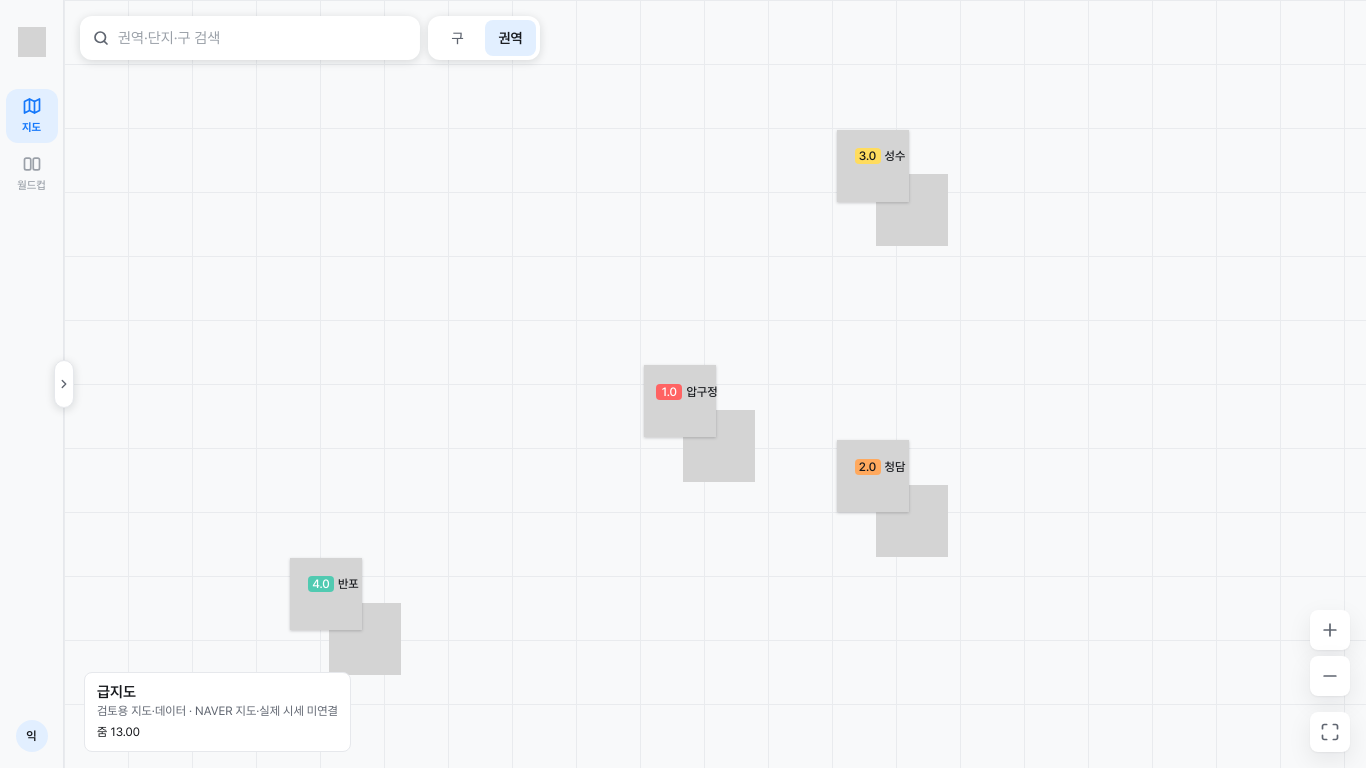
Scenario: search interaction in exploration › fits a district and searches an apartment outside the current viewport then selects detail/list/pin at zoom >=15
The width and height of the screenshot is (1366, 768).
Type "성동구" into the dropdown at point(263, 38), box [118, 16, 408, 60]
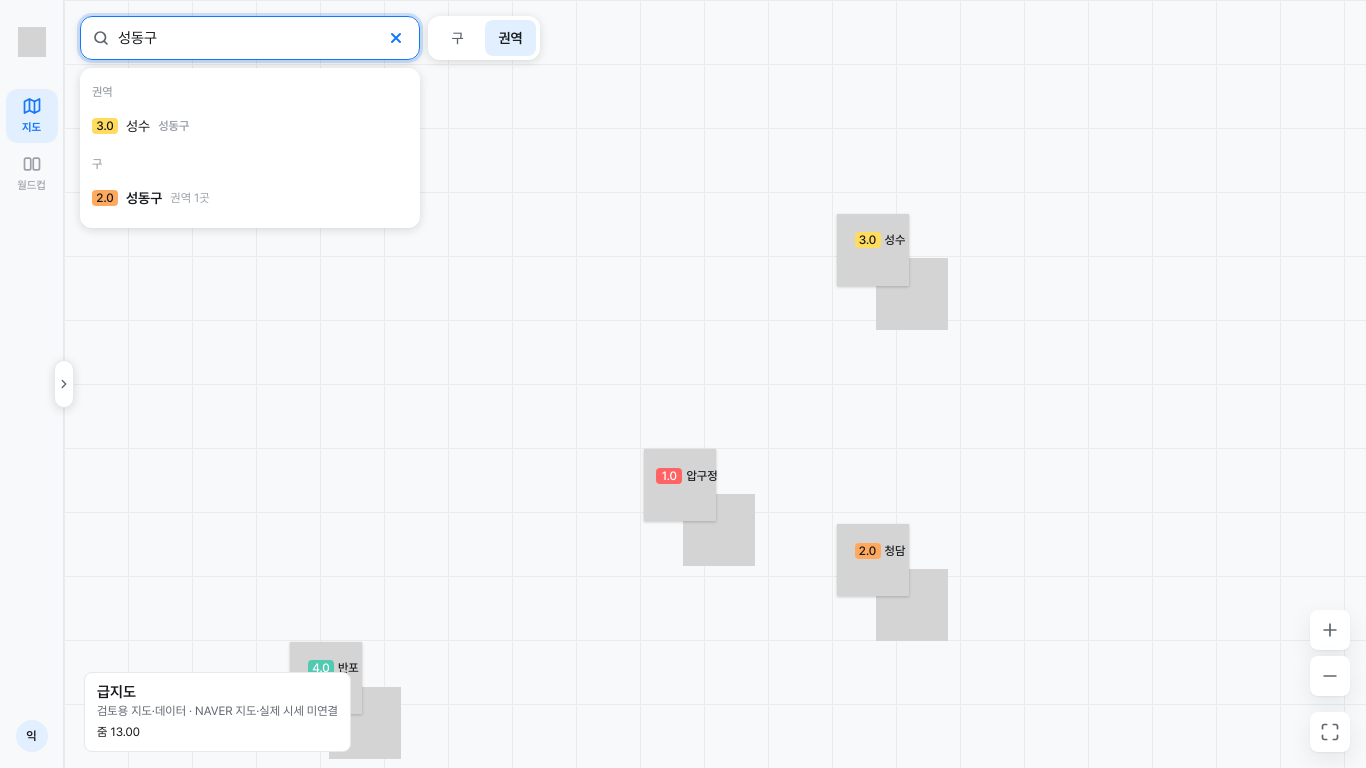
Check: the list is shown, box [92, 85, 210, 206]
Click the option "2.0 성동구 권역 1곳" at point(151, 198), box [92, 190, 210, 206]
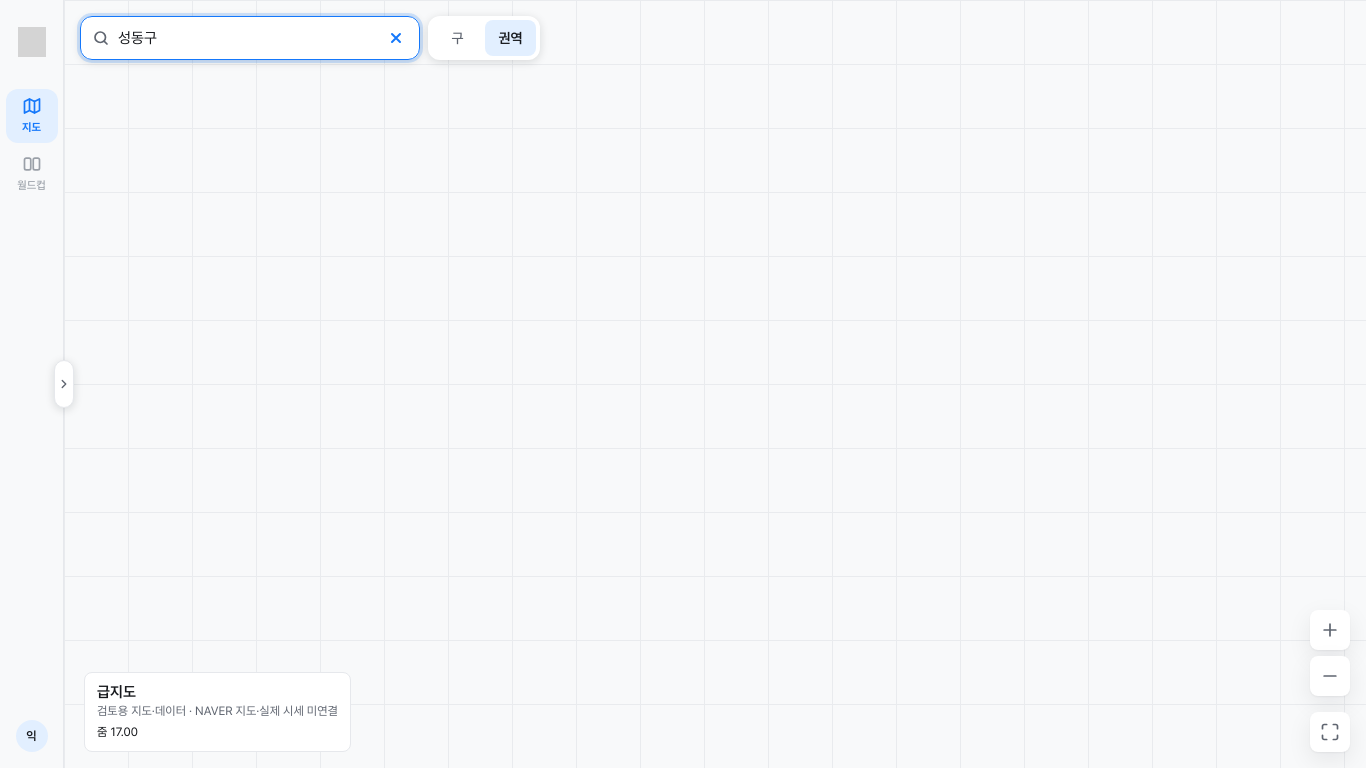
Clear the dropdown at point(247, 38), box [118, 16, 376, 60]
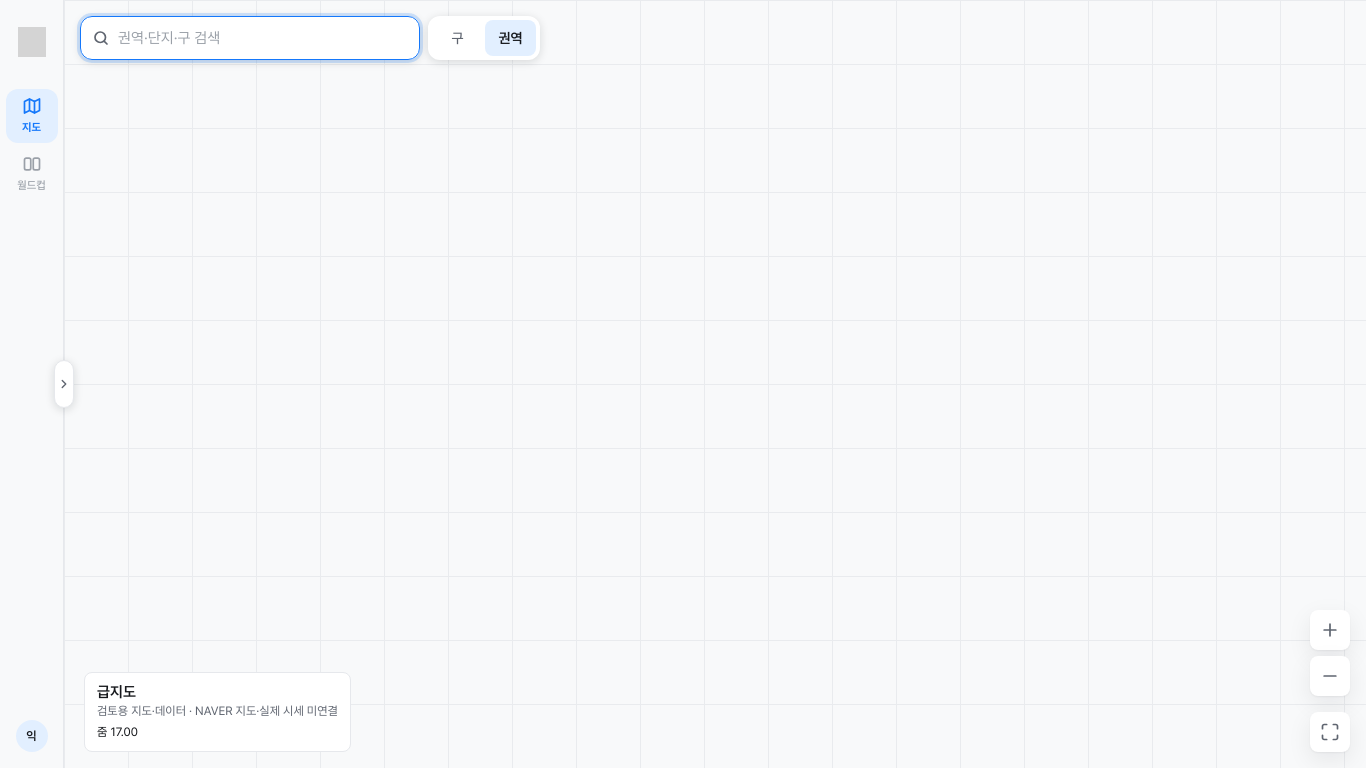
Type "청담 검토" into the dropdown at point(263, 38), box [118, 16, 408, 60]
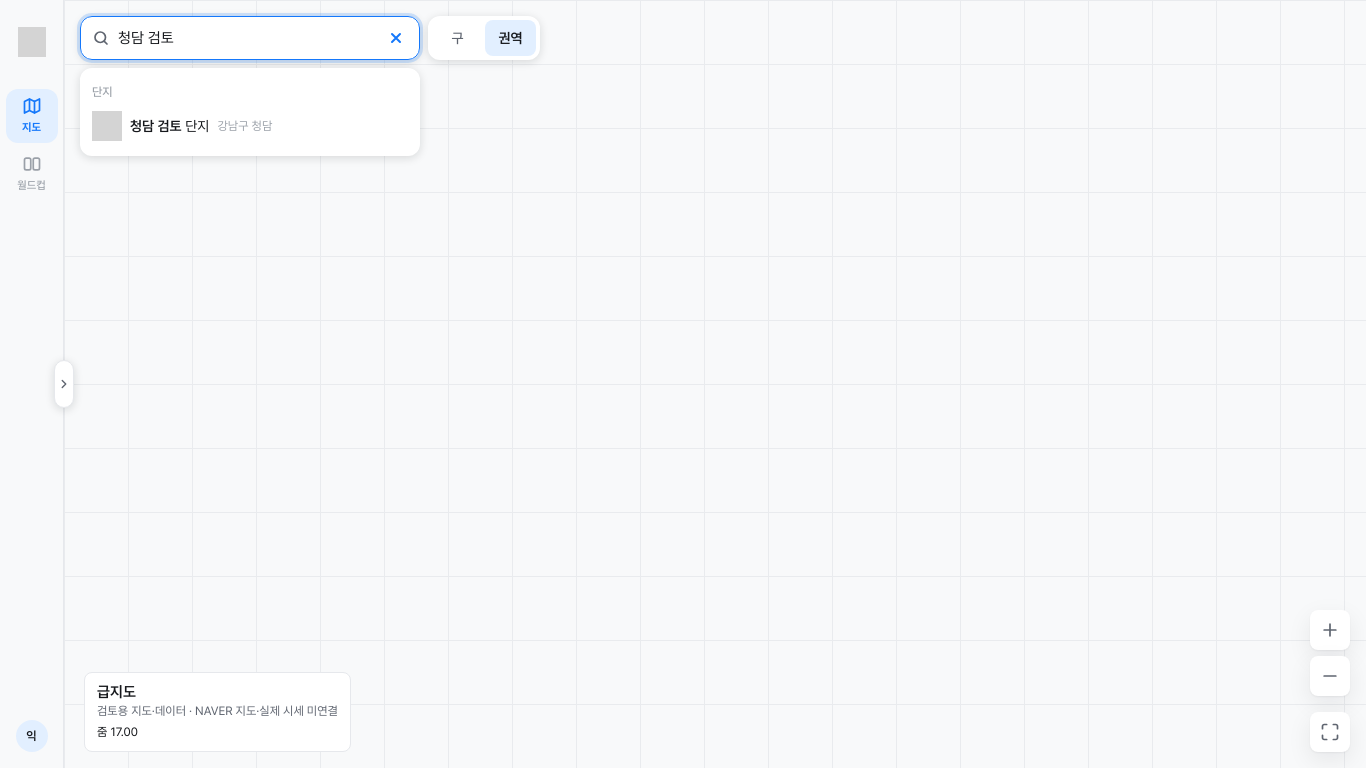
Click the option "청담 검토 단지 강남구 청담" at point(182, 126), box [92, 111, 272, 141]
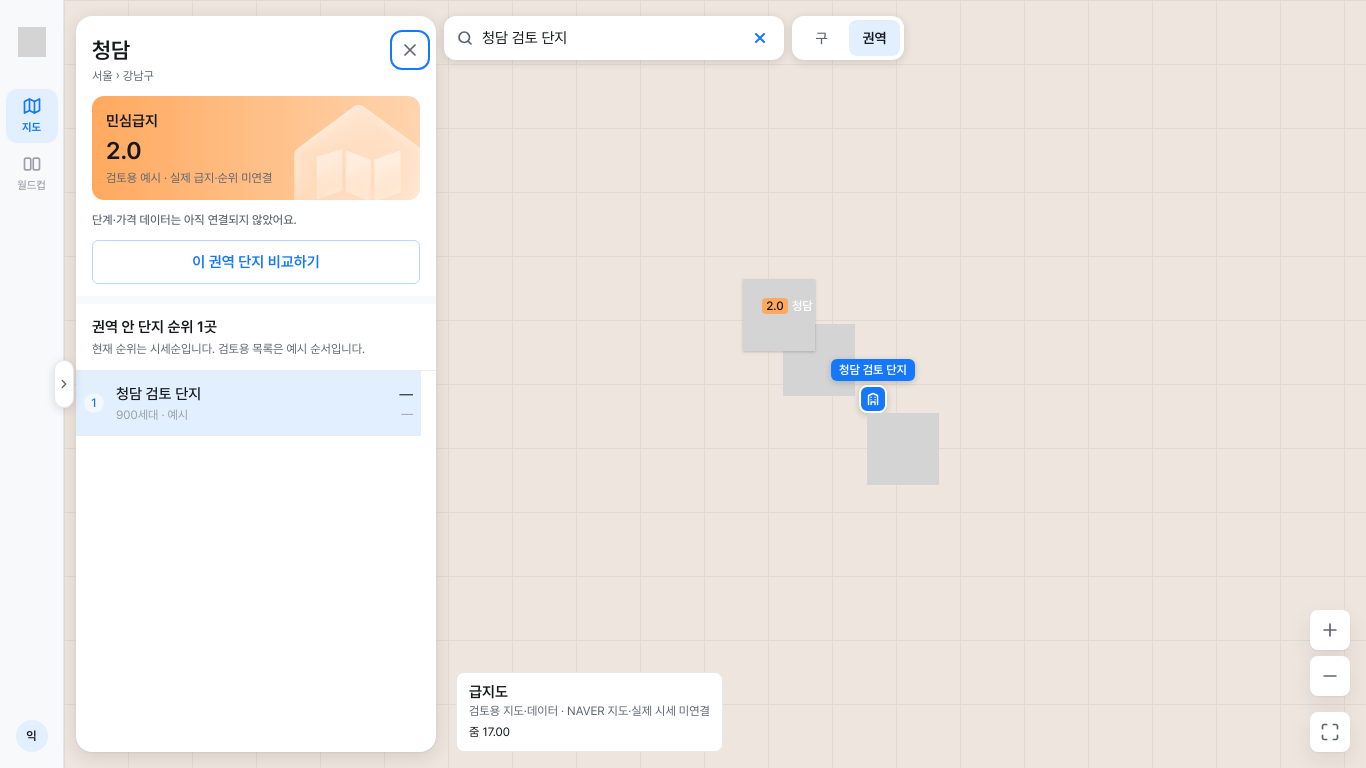
Check: the dropdown is collapsed, box [482, 16, 740, 60]
